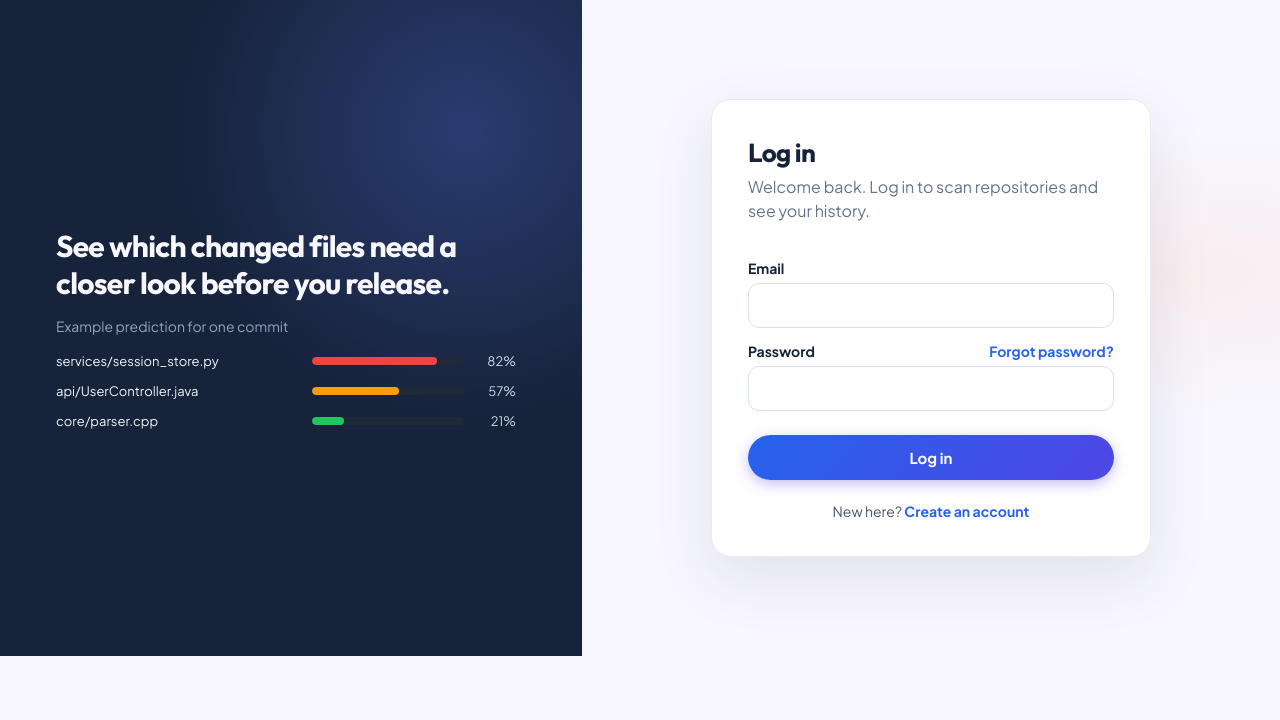
Test: authentication pages › shows a clear error when login is rejected
Step 1. Type "tester@example.com" into the field labelled "Email" → (931, 306), box [748, 283, 1114, 328]
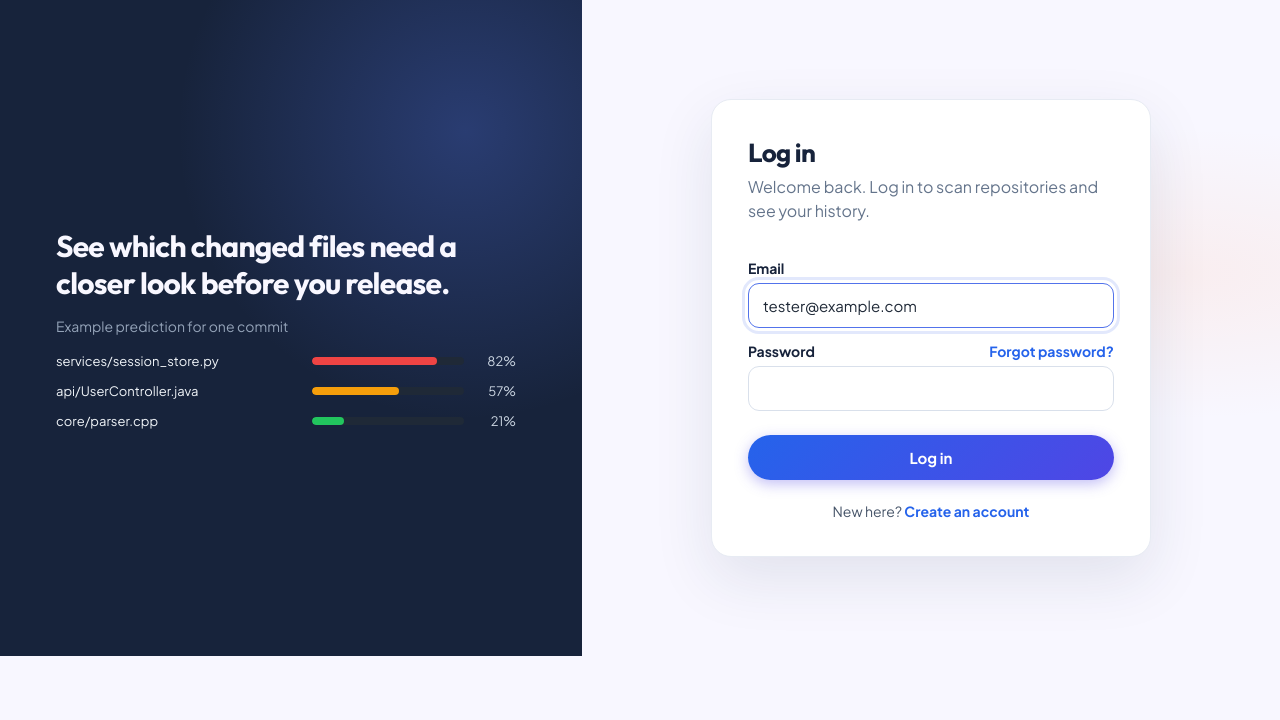
Step 2. Type "wrong-password" into the password field labelled "Password" → (931, 388), box [748, 366, 1114, 411]
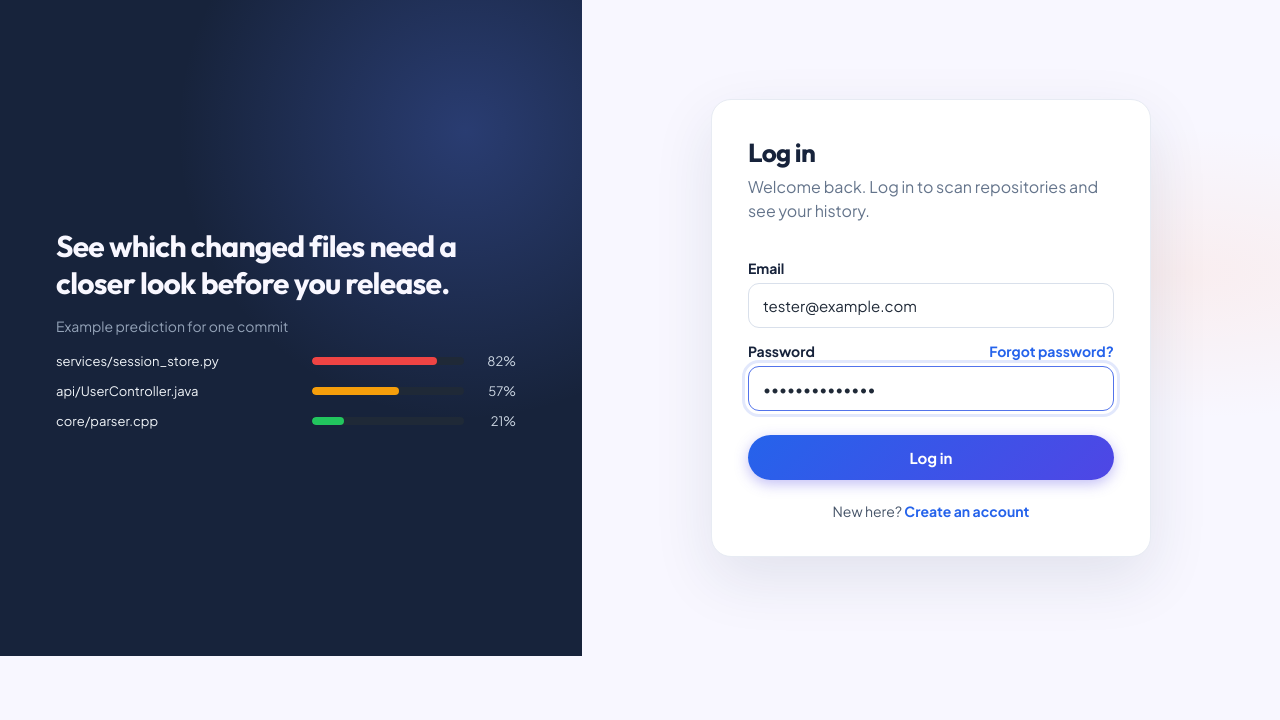
Step 3. Click the button "Log in" → (931, 458), box [748, 435, 1114, 480]
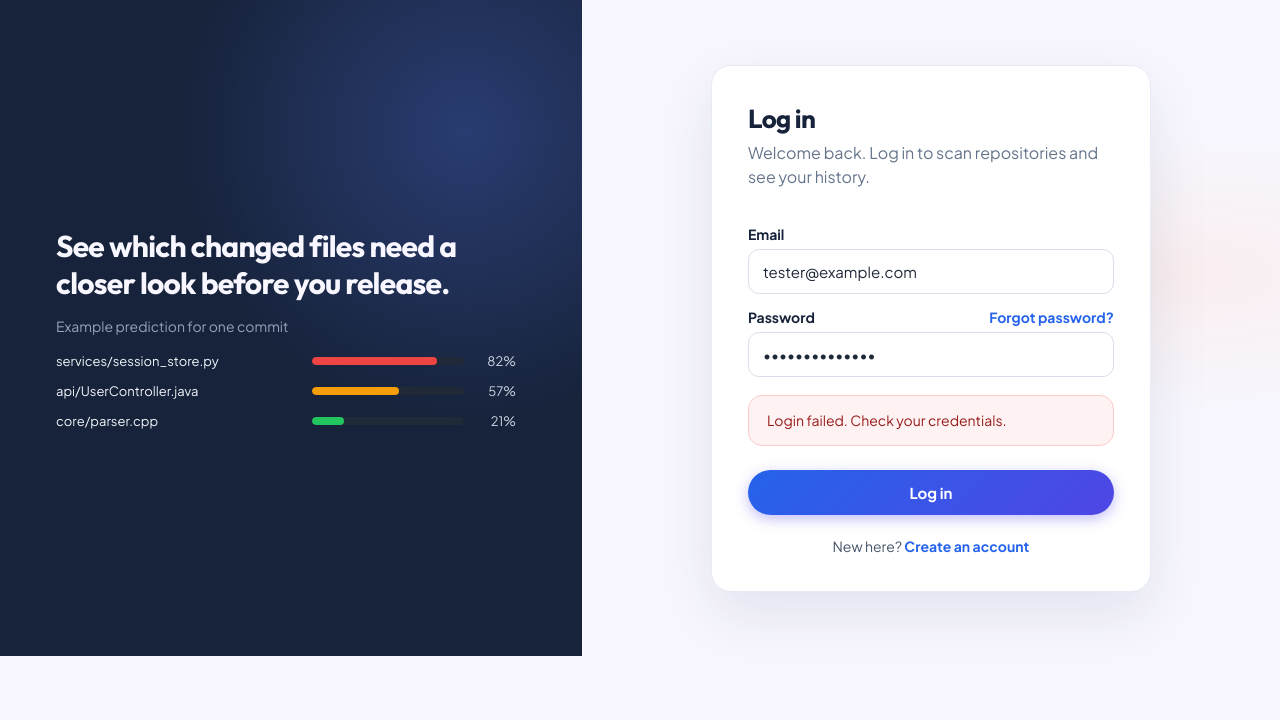
Now the message reads "Login failed. Check your credentials.", box [767, 410, 1007, 428]
